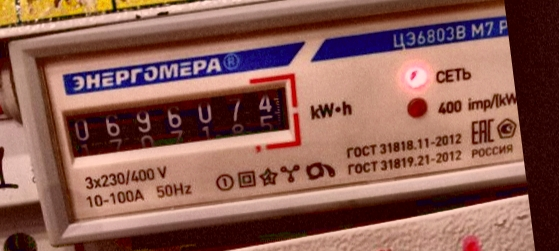0: (69, 115, 91, 142), (195, 97, 214, 125)
4: (255, 88, 274, 114)
5: (258, 112, 275, 132)
6: (102, 109, 124, 138), (163, 103, 183, 129)
7: (224, 94, 245, 122)
9: (131, 106, 153, 134)
screen: (48, 67, 309, 178)
